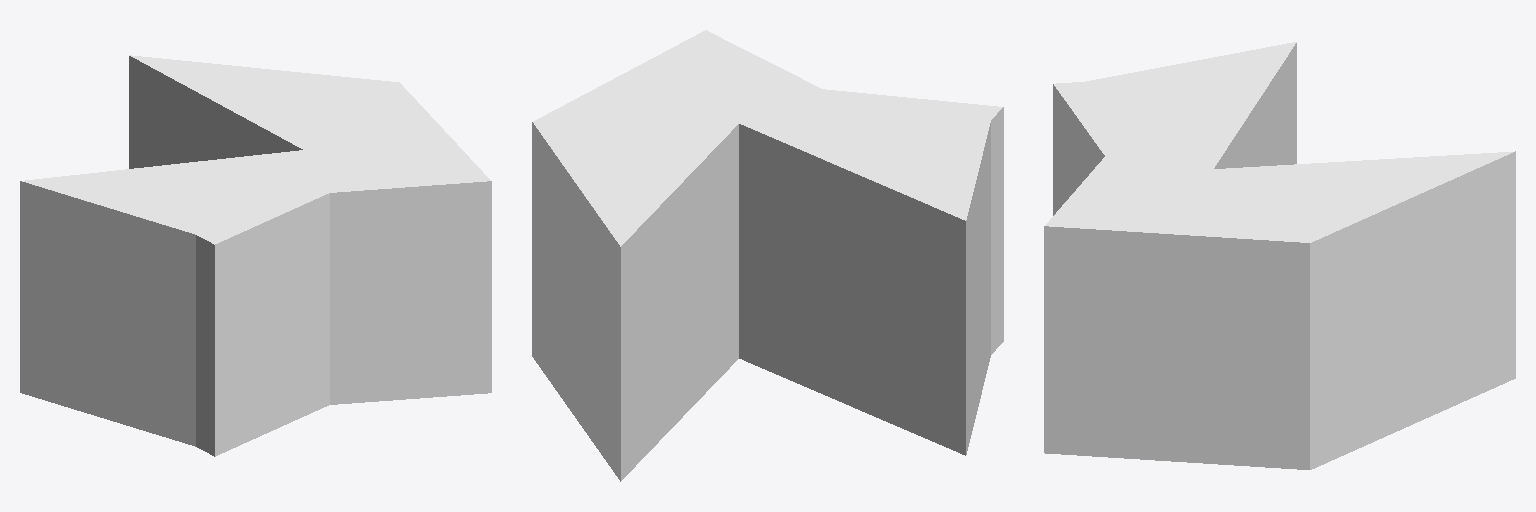
robot.urdf — 9:
<?xml version="1.0" ?>
<robot name="9">
  <link concave="yes" name="baseLink">
    <contact>
    	<friction_anchor/>
    	   <lateral_friction value="1.0"/>
    </contact>
    <inertial>
      <origin rpy="0 0 0" xyz="0 0 0"/>
       <!-- mass controls penetration -->
       <mass value=".1"/>
       <inertia ixx="1e-4" ixy="0" ixz="0" iyy="1e-4" iyz="0" izz="1e-4"/>
    </inertial>
    <visual>
      <origin rpy="0 0 0" xyz="0 0 0"/>
      <geometry>
        <mesh filename="package://object_datasets/Tandem2D/meshes/9.obj"/>
      </geometry>
       <material name="white">
        <color rgba="1 1 1 1"/>
      </material>
    </visual>
    <collision>
      <origin rpy="0 0 0" xyz="0 0 0"/>
      <geometry>
        <mesh filename="package://object_datasets/Tandem2D/meshes/9.obj"/>
      </geometry>
    </collision>
  </link>
</robot>

--- What the picture shows (computed from the rendered views, not written in the file) ---
The picture shows the robot from 3 angles, left to right: view 1: azimuth 30°, elevation 25°; view 2: azimuth 150°, elevation 25°; view 3: azimuth 270°, elevation 25°; orthographic projection.
Model 9 with 1 links and 0 joints (none), rooted at baseLink, posed all joints at 0.
Visible links, largest first — view 1: baseLink; view 2: baseLink; view 3: baseLink.
Boxes of the visible links, bbox=[...] form: baseLink: bbox=[20, 55, 491, 456]; baseLink: bbox=[532, 30, 1003, 481]; baseLink: bbox=[1044, 42, 1515, 469].
Bounding box of the posed robot: 0.1426 × 0.1409 × 0.075 m (x, y, z).
Meshes: 1 distinct files referenced, 1 mesh visuals loaded (1 OBJ).
